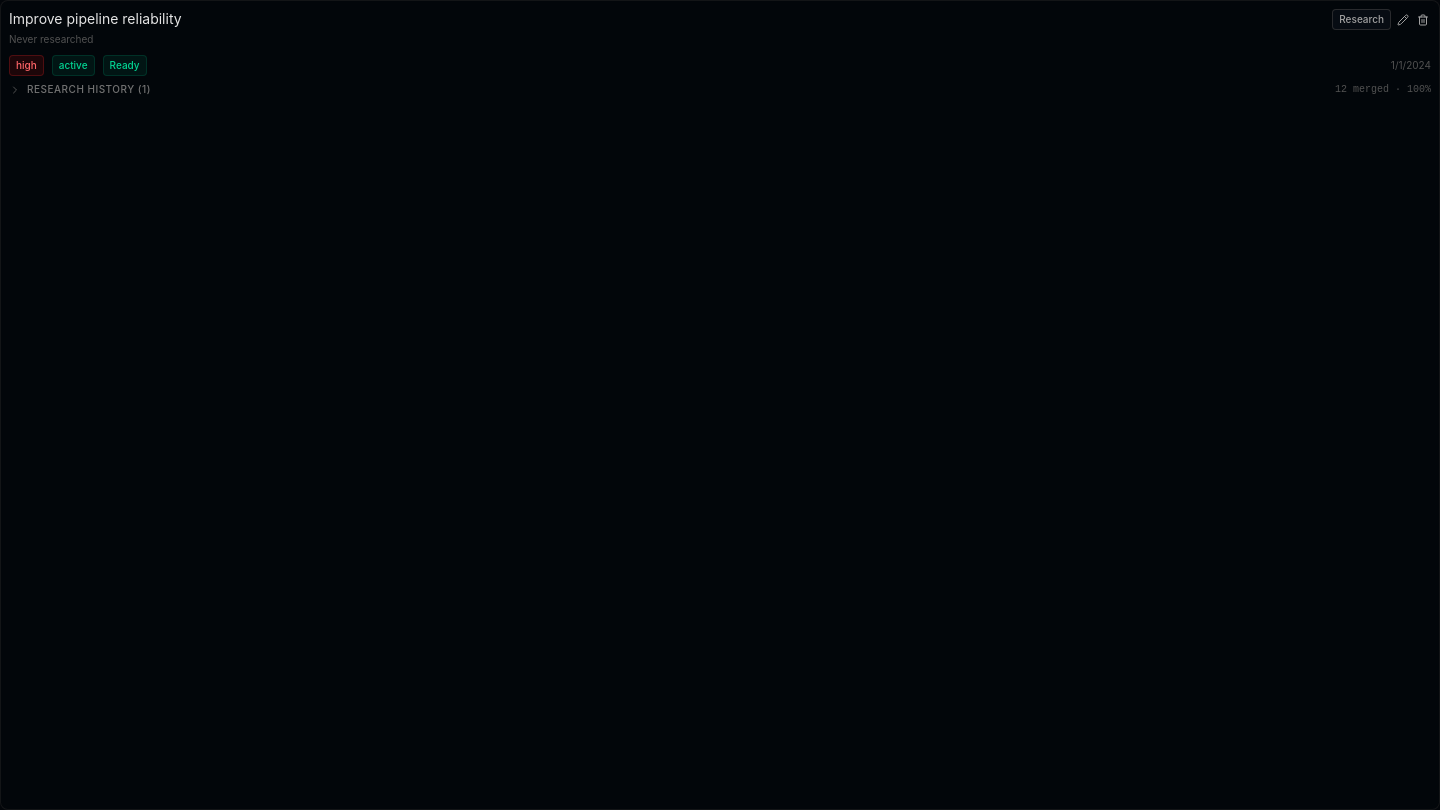
Scenario: DirectionCard autonomous/assisted merge split › shows self-sufficient badge when >=10 autonomous and zero operator actions
This screenshot has width=1440, height=810.
Click the button "Research History (1) 12 merged · 100%": (85, 89) [9,82,1431,97]
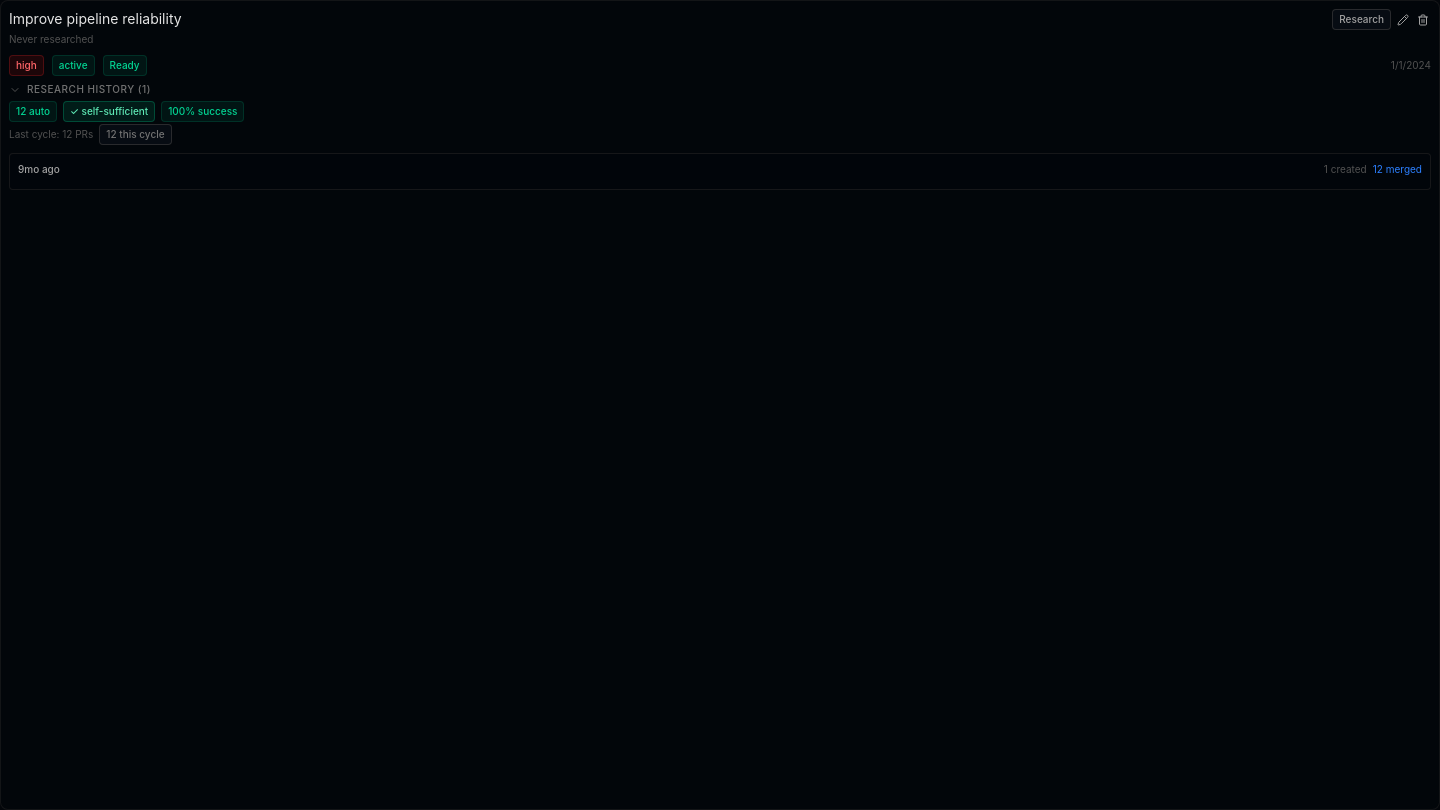
Result: the text "✓ self-sufficient" is shown at [63,101,155,122]
